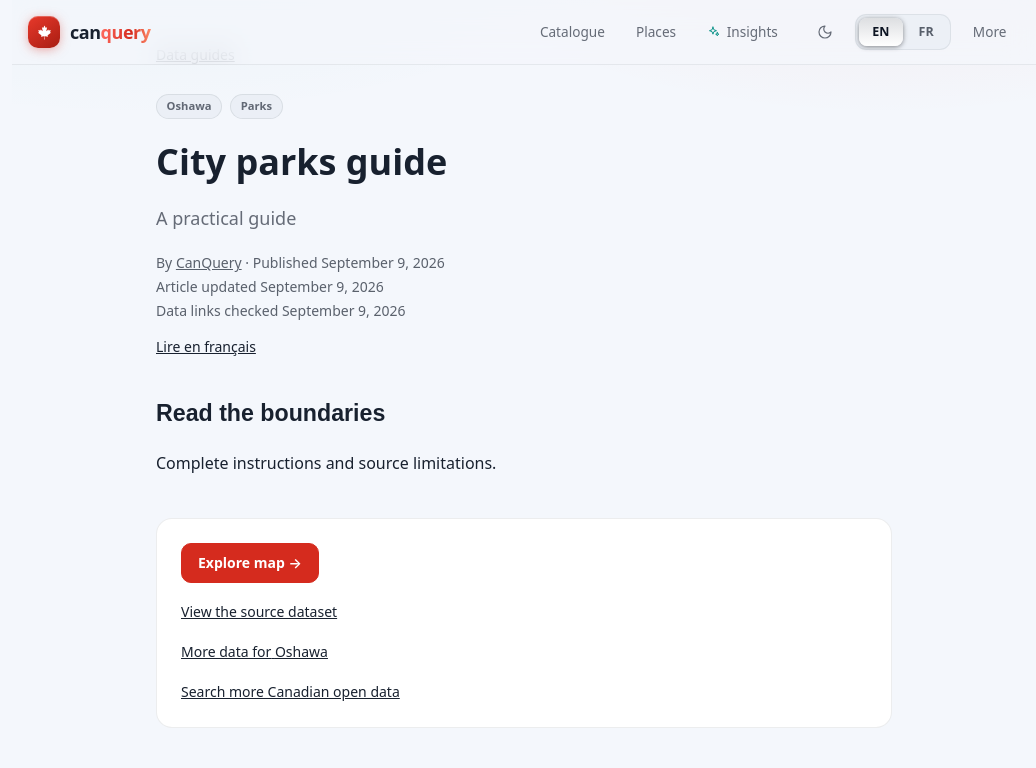
the /blog/parks guide links back to Canadian open data search after its source and place links
(page scrolled)
Expected: the heading "City parks guide" is shown, x1=156 y1=137 x2=447 y2=186
Click the link "Search more Canadian open data" at point(290, 691), box x1=181 y1=682 x2=400 y2=701
(page scrolled)
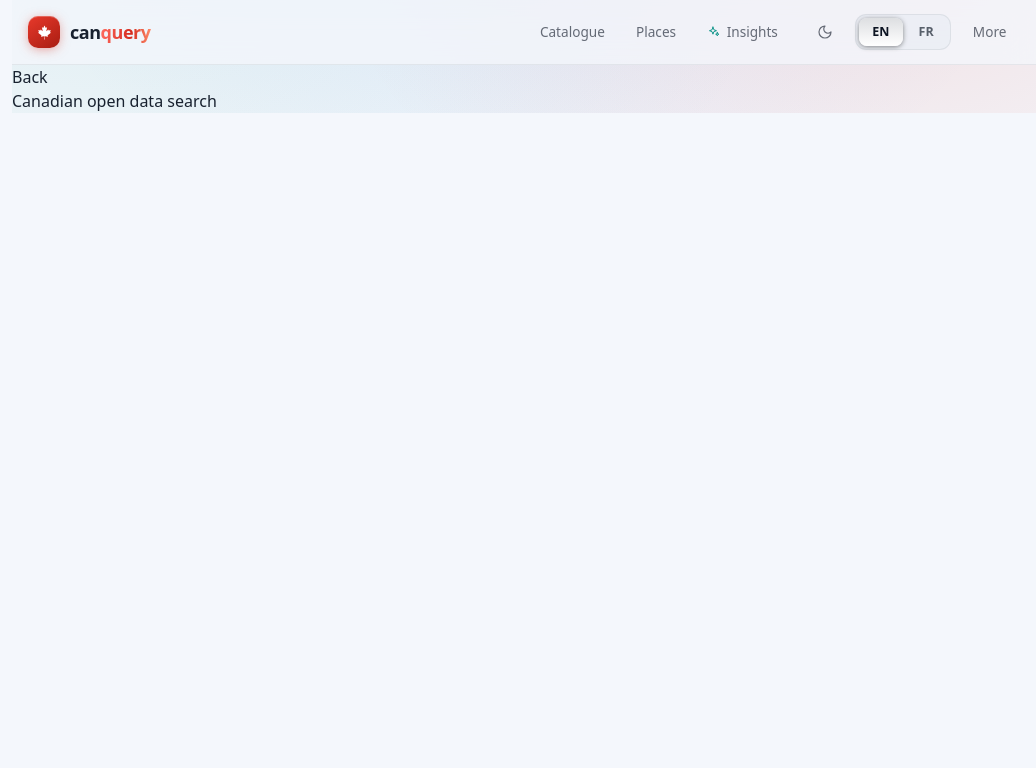
Expected: the heading "Canadian open data search" is shown, x1=12 y1=90 x2=217 y2=112
